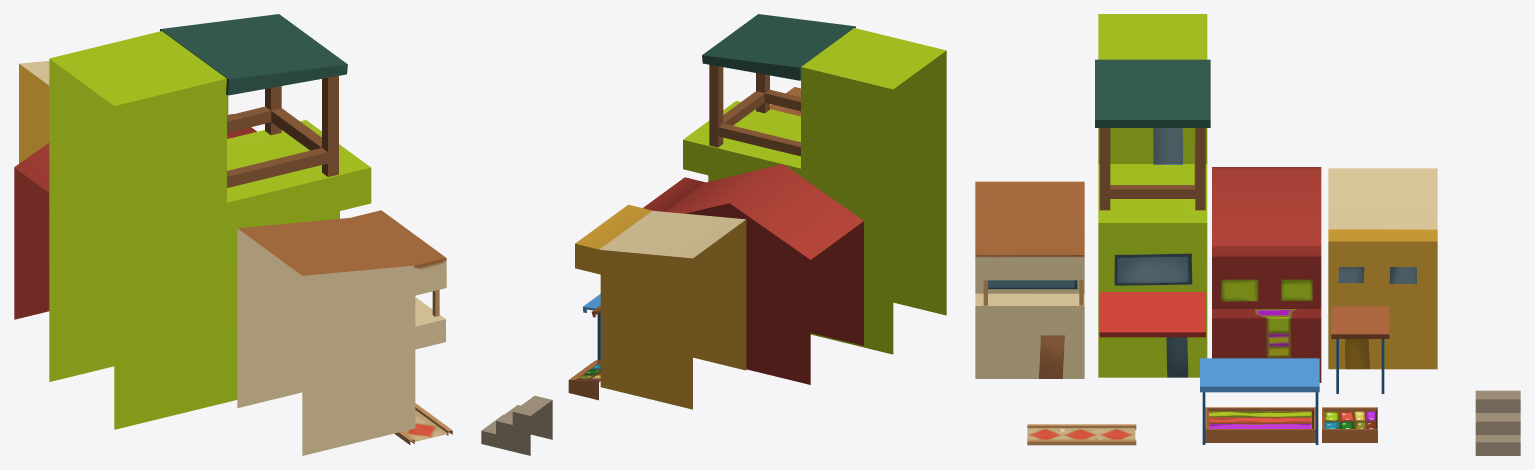
File: nha1.fbx
The picture shows the model from 3 angles, left to right: view 1: azimuth 30°, elevation 25°; view 2: azimuth 150°, elevation 25°; view 3: azimuth 270°, elevation 25°; orthographic projection. The views are drawn at different scales.
Parts seen in each view (by area): view 1: pCube303, polySurface36, pCube276, pCube302, pPlane39; view 2: pCube303, pCube302, pCube276, pCube290, pCube294; view 3: pCube303, pCube302, polySurface36, pCube276, pCube308, pCube290, pPlane39, pCube294.
Part boxes in pixels (left/top/right/bottom): pCube303: left=49, top=14, right=371, bottom=429; polySurface36: left=237, top=210, right=446, bottom=455; pCube276: left=14, top=114, right=256, bottom=319; pCube302: left=19, top=61, right=228, bottom=163; pPlane39: left=394, top=403, right=452, bottom=444; pCube303: left=683, top=14, right=946, bottom=354; pCube302: left=575, top=204, right=746, bottom=409; pCube276: left=643, top=164, right=863, bottom=384; pCube290: left=481, top=395, right=552, bottom=455; pCube294: left=568, top=360, right=600, bottom=400; pCube303: left=1095, top=14, right=1210, bottom=377; pCube302: left=1328, top=168, right=1437, bottom=393; polySurface36: left=975, top=181, right=1084, bottom=378; pCube276: left=1212, top=167, right=1321, bottom=382; pCube308: left=1200, top=358, right=1319, bottom=444; pCube290: left=1475, top=390, right=1520, bottom=455; pPlane39: left=1027, top=424, right=1136, bottom=445; pCube294: left=1322, top=407, right=1377, bottom=442.
Size of the model in its own units: 72.5 by 81.89 by 129.
